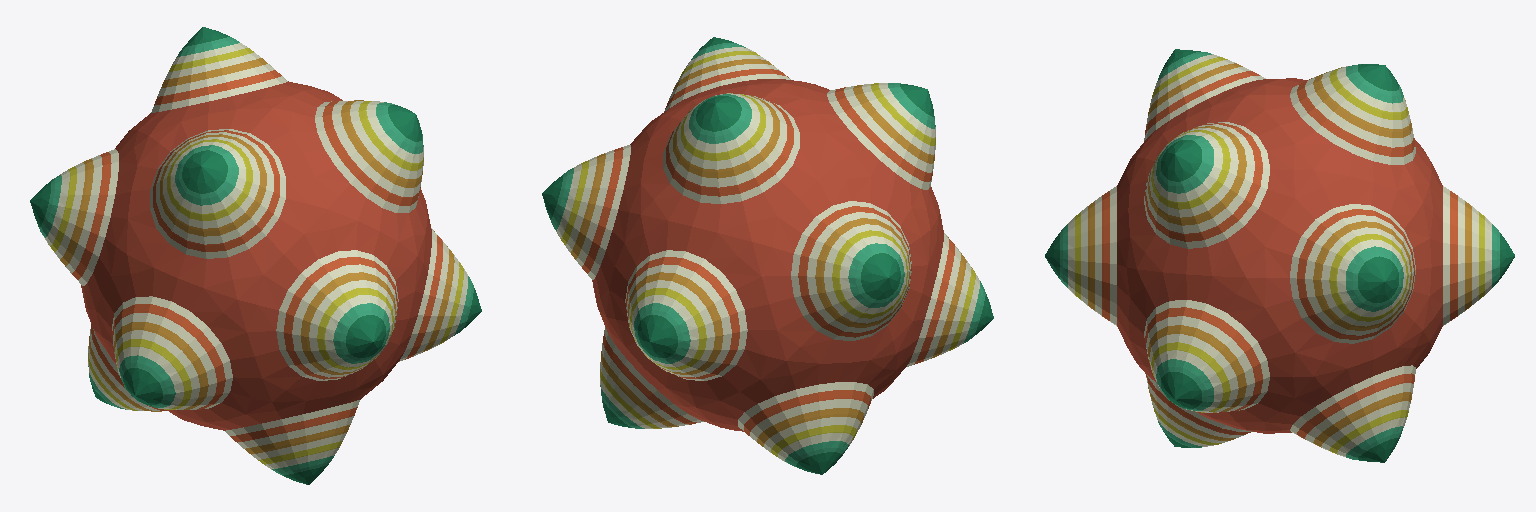
3 renders of one model, left to right at view 1: azimuth 30°, elevation 25°; view 2: azimuth 150°, elevation 25°; view 3: azimuth 270°, elevation 25°, orthographic.
Parts seen in each view (by area): view 1: core_24_0; view 2: core_24_0; view 3: core_24_0.
Part boxes in pixels (x1,y1,x2,y2): core_24_0: (30,27,481,484); core_24_0: (542,37,993,474); core_24_0: (1045,49,1514,462).
Bounding box in the file's own units: 0.0499 × 0.0524 × 0.0586.
1 materials, 1 textured.